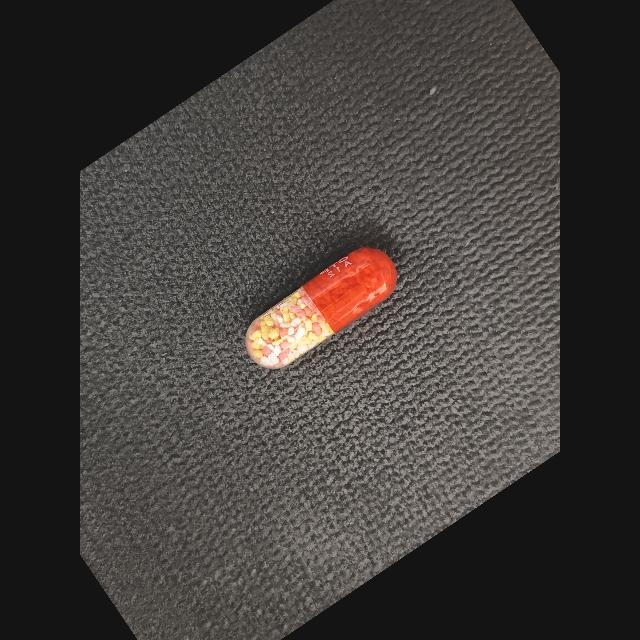Intact Capsule: (245, 247, 396, 369)
